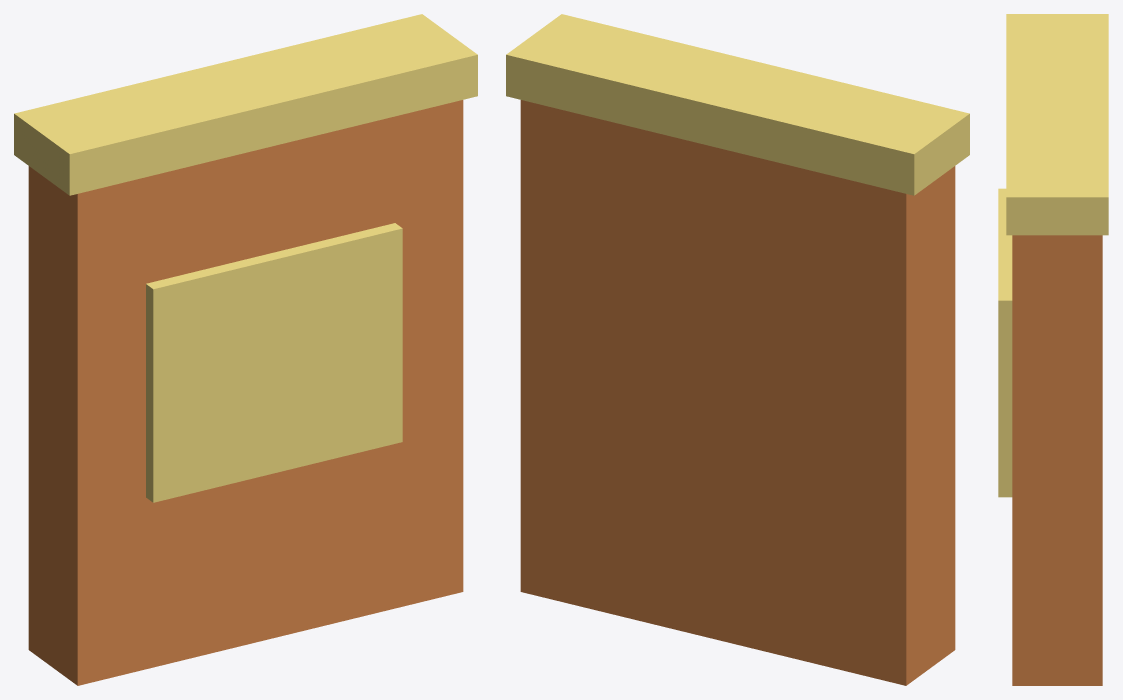
The model's file is Yeast.glb.
3 views of the same model, side by side, from view 1: azimuth 30°, elevation 25°; view 2: azimuth 150°, elevation 25°; view 3: azimuth 270°, elevation 25° (orthographic). The views are drawn at different scales.
Visible parts, largest first — view 1: Yeast_Pouch, Yeast_Label; view 2: Yeast_Pouch, Yeast_Label; view 3: Yeast_Pouch, Yeast_Label.
Boxes of the visible parts, <box> form: Yeast_Pouch: <box>28,100,463,685</box>; Yeast_Label: <box>14,14,477,502</box>; Yeast_Pouch: <box>520,100,955,685</box>; Yeast_Label: <box>506,14,969,195</box>; Yeast_Pouch: <box>1012,235,1102,685</box>; Yeast_Label: <box>998,14,1108,497</box>.
Bounding box in the file's own units: 0.36 × 0.4525 × 0.0915.
